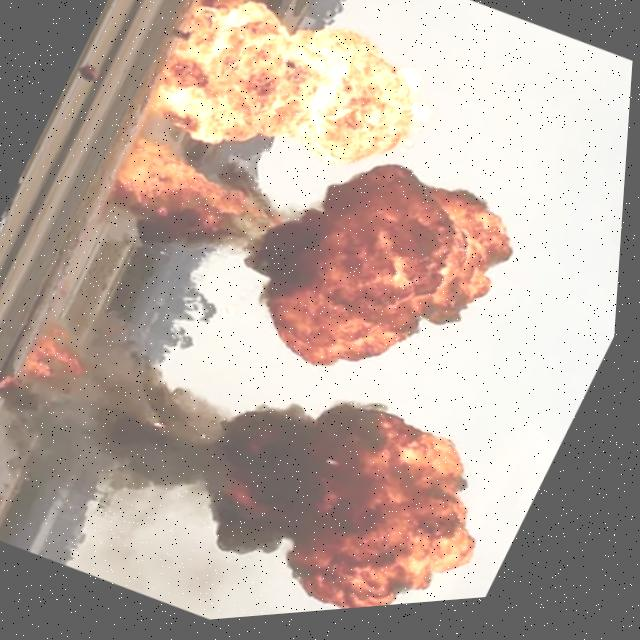Fire: (140, 0, 450, 226), (100, 122, 294, 274)
Smoke: (0, 253, 537, 640), (63, 55, 545, 443)
